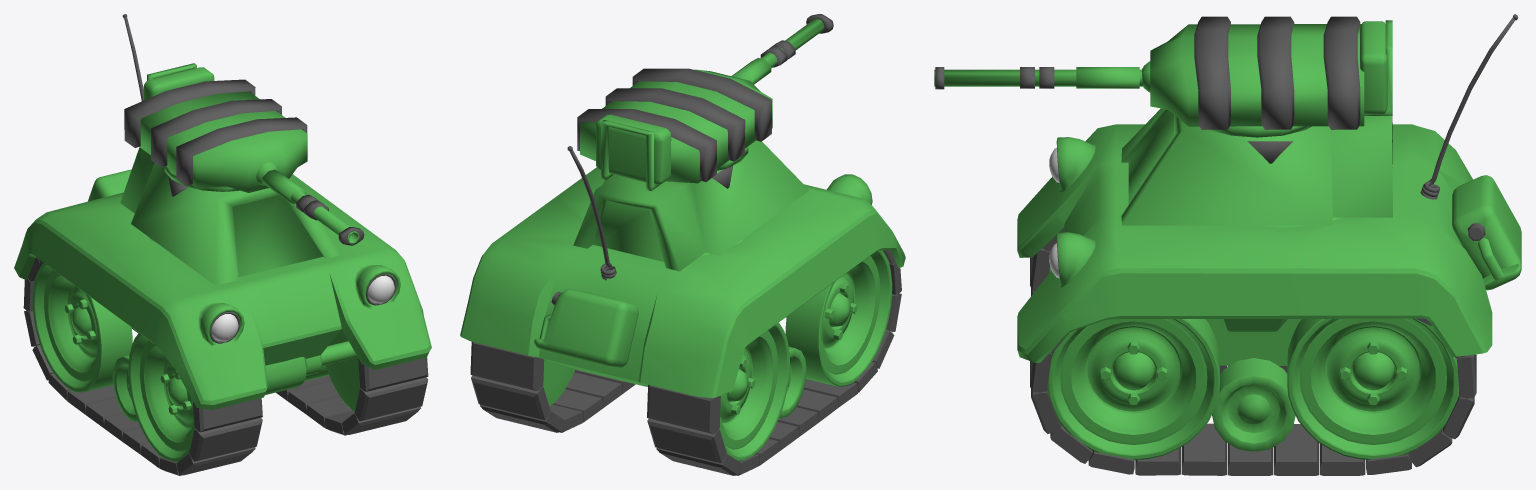
Rendered from flameTank.fbx.
The picture shows the model from 3 angles, left to right: view 1: azimuth 30°, elevation 25°; view 2: azimuth 150°, elevation 25°; view 3: azimuth 270°, elevation 25°; orthographic projection. The views are drawn at different scales.
Parts seen in each view (by area): view 1: TankChassis, default.001, TankTracksRight, TankTracksLeft; view 2: TankChassis, default.001, TankTracksRight, TankTracksLeft, TankTurret.001; view 3: TankChassis, default.001, TankTracksLeft, TankTurret.001, TankTracksRight.
Boxes of the visible parts, bbox=[...] form: TankChassis: bbox=[14, 169, 431, 422]; default.001: bbox=[120, 63, 364, 285]; TankTracksRight: bbox=[23, 257, 262, 475]; TankTracksLeft: bbox=[276, 329, 428, 435]; TankChassis: bbox=[460, 167, 905, 418]; default.001: bbox=[573, 14, 833, 271]; TankTracksRight: bbox=[647, 250, 901, 475]; TankTracksLeft: bbox=[470, 342, 635, 432]; TankTurret.001: bbox=[567, 146, 616, 280]; TankChassis: bbox=[1017, 124, 1521, 451]; default.001: bbox=[934, 16, 1392, 225]; TankTracksLeft: bbox=[1030, 318, 1476, 475]; TankTurret.001: bbox=[1420, 14, 1518, 199]; TankTracksRight: bbox=[1030, 229, 1287, 373].
Size of the model in its own units: 170 by 205 by 275.
